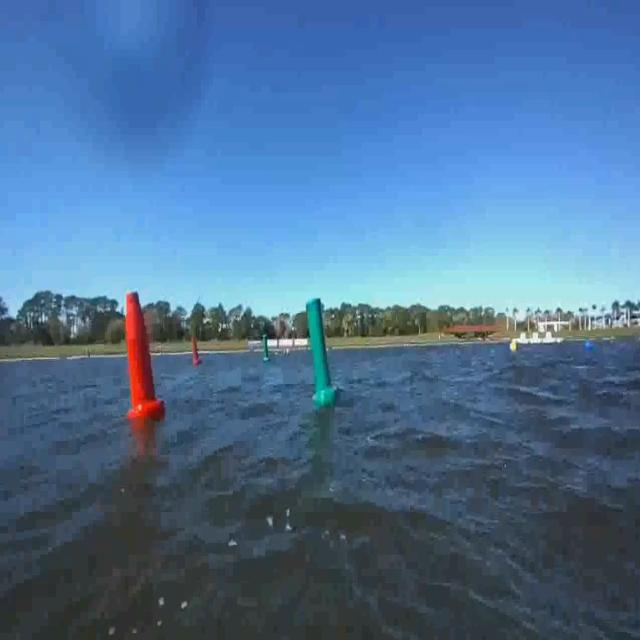blue-buoy: (585, 338, 596, 354)
green-column-buoy: (304, 294, 338, 405), (264, 335, 273, 362)
red-column-buoy: (125, 286, 165, 419), (192, 336, 202, 366)
yellow-buoy: (511, 339, 520, 354)
